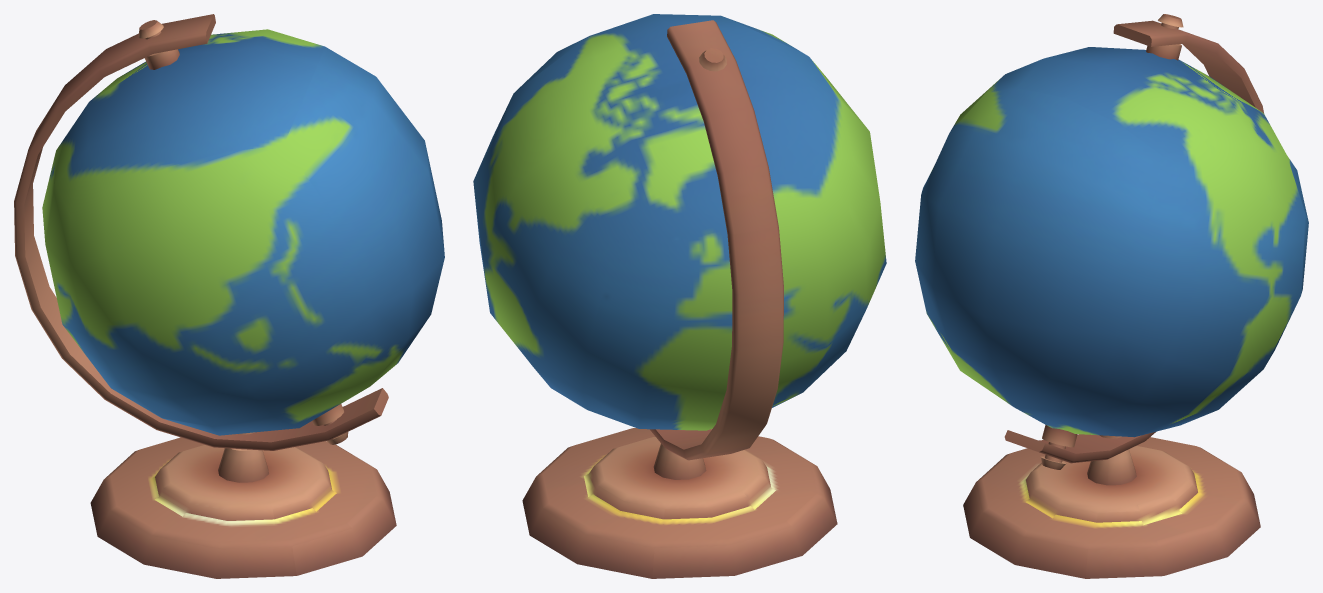
File: Globe.fbx
3 views of the same model, side by side, from view 1: azimuth 30°, elevation 25°; view 2: azimuth 150°, elevation 25°; view 3: azimuth 270°, elevation 25° (orthographic). The views are drawn at different scales.
Visible parts, largest first — view 1: Globe.002, Globe.006, Globe.004, Globe.001, Globe.005; view 2: Globe.002, Globe.006, Globe.004, Globe.001; view 3: Globe.002, Globe.006, Globe.004, Globe.001, Globe.003, Globe.005.
Part boxes in pixels (x1=…): Globe.002: x1=42, y1=29, x2=444, y2=435; Globe.006: x1=90, y1=437, x2=396, y2=578; Globe.004: x1=14, y1=14, x2=388, y2=450; Globe.001: x1=218, y1=432, x2=268, y2=482; Globe.005: x1=138, y1=20, x2=179, y2=69; Globe.002: x1=473, y1=14, x2=886, y2=430; Globe.006: x1=522, y1=428, x2=837, y2=578; Globe.004: x1=650, y1=20, x2=783, y2=460; Globe.001: x1=653, y1=430, x2=706, y2=479; Globe.002: x1=915, y1=47, x2=1308, y2=437; Globe.006: x1=963, y1=437, x2=1260, y2=578; Globe.004: x1=1004, y1=20, x2=1263, y2=463; Globe.001: x1=1087, y1=435, x2=1136, y2=485; Globe.003: x1=1040, y1=425, x2=1077, y2=469; Globe.005: x1=1146, y1=14, x2=1183, y2=60.
Size of the model in its own units: 0.5962 by 0.602 by 0.7937.
